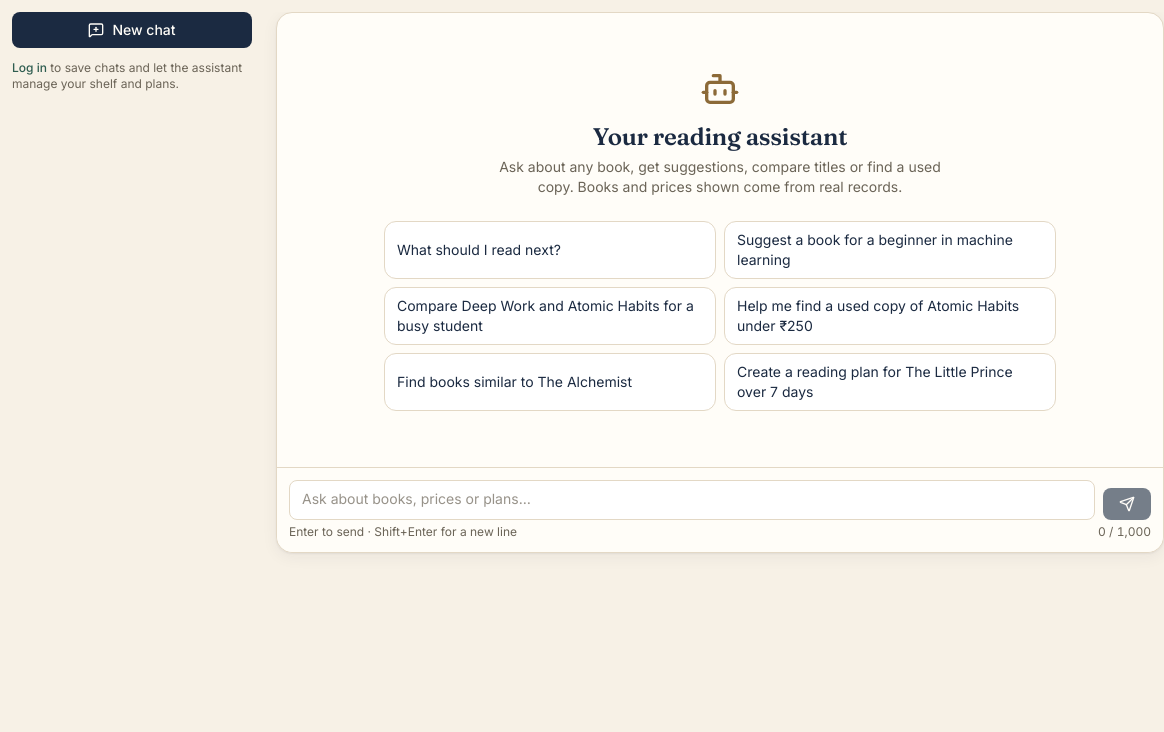
Test case: Assistant › offers a retry after a failure without duplicating the message
In the text box named "Message": (692, 500) [289,480,1095,520], type "Hello there"
Then press Enter
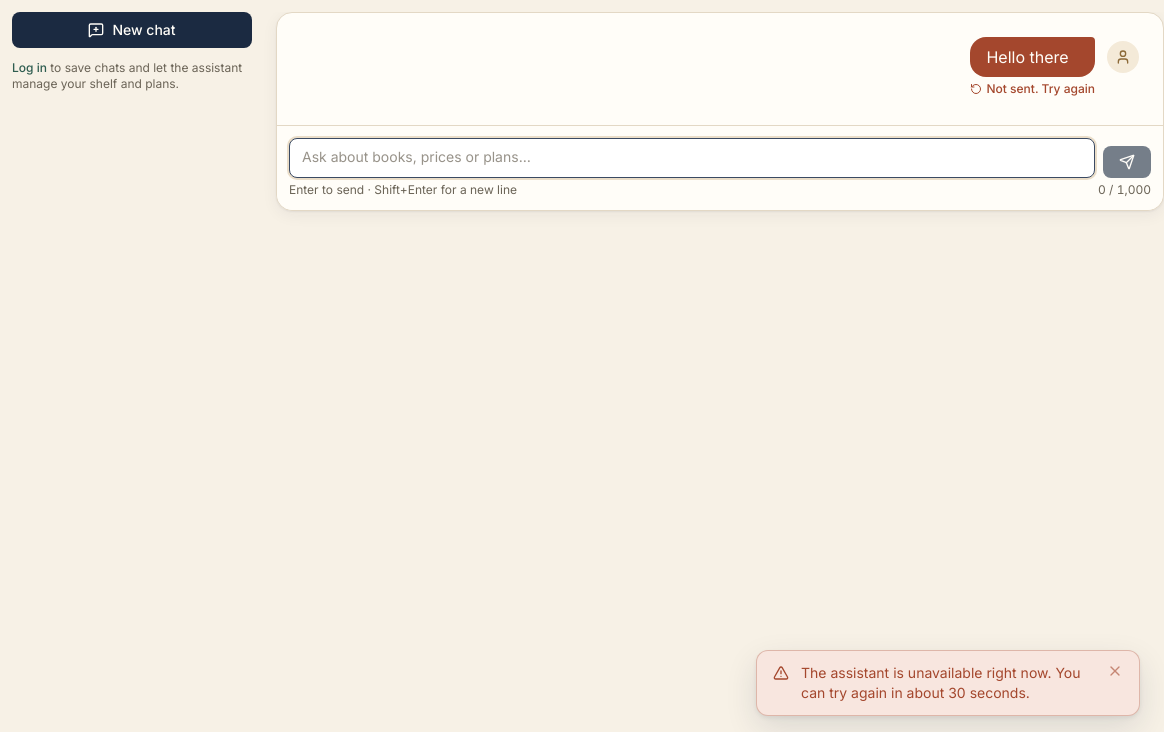
Expected: the message shows "about 30 seconds", [801,664,1080,701]
Click the button "Not sent. Try again": (1033, 89) [970,81,1095,97]
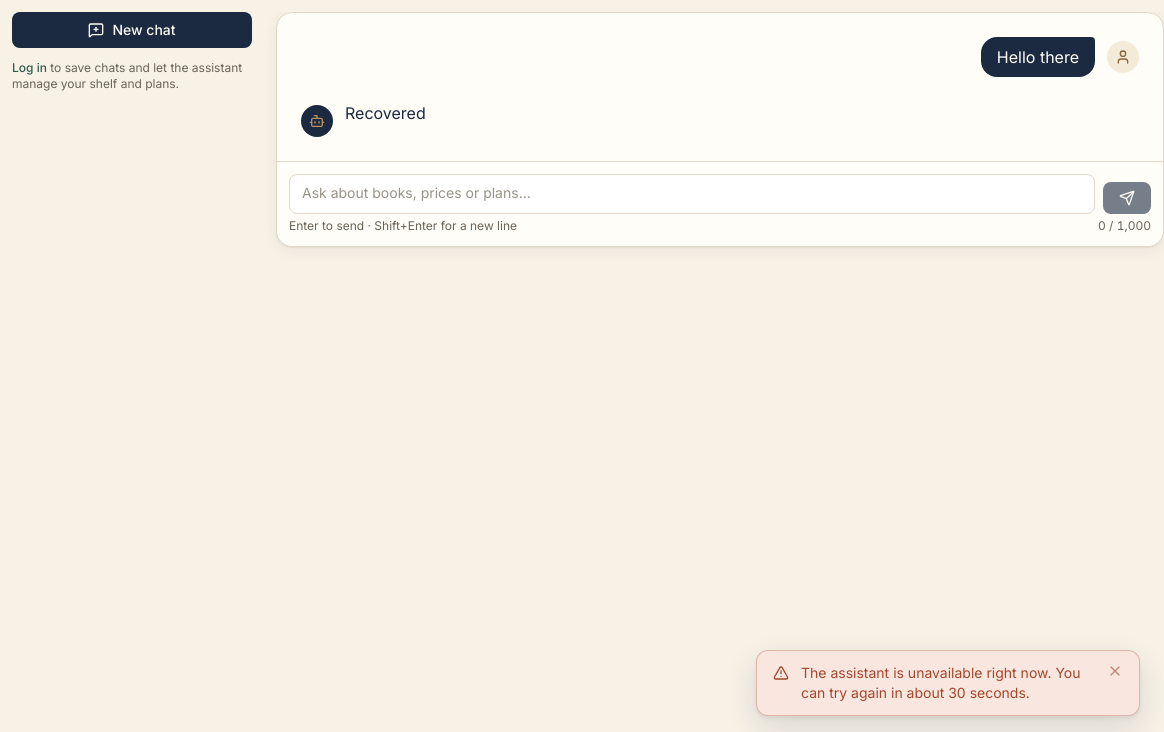
Expected: the text "Recovered" is shown, [345,103,426,123]
Expected: the text "Hello there" is shown once, [997,45,1079,69]
